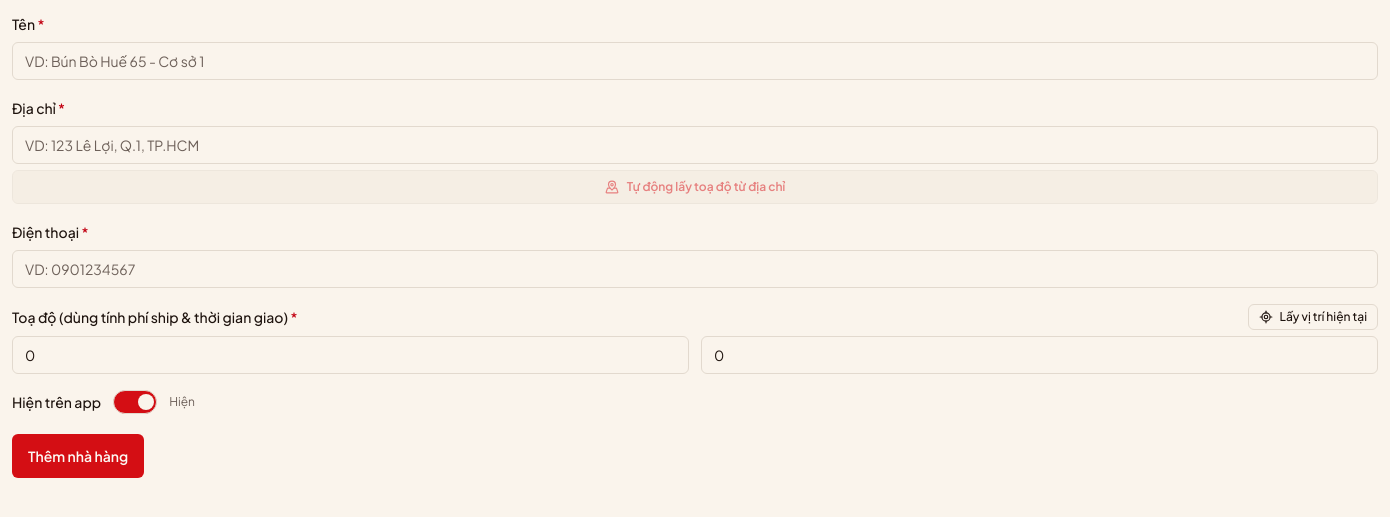
Test: RestaurantForm — toạ độ (lat/lng) › fills lat/lng from geocodeAddress when 'Tự động lấy toạ độ' is clicked
Type "123 Le Loi, TP.HCM" into the field with test id "restaurant.form.address_input" at (695, 145), box [12,126,1378,164]
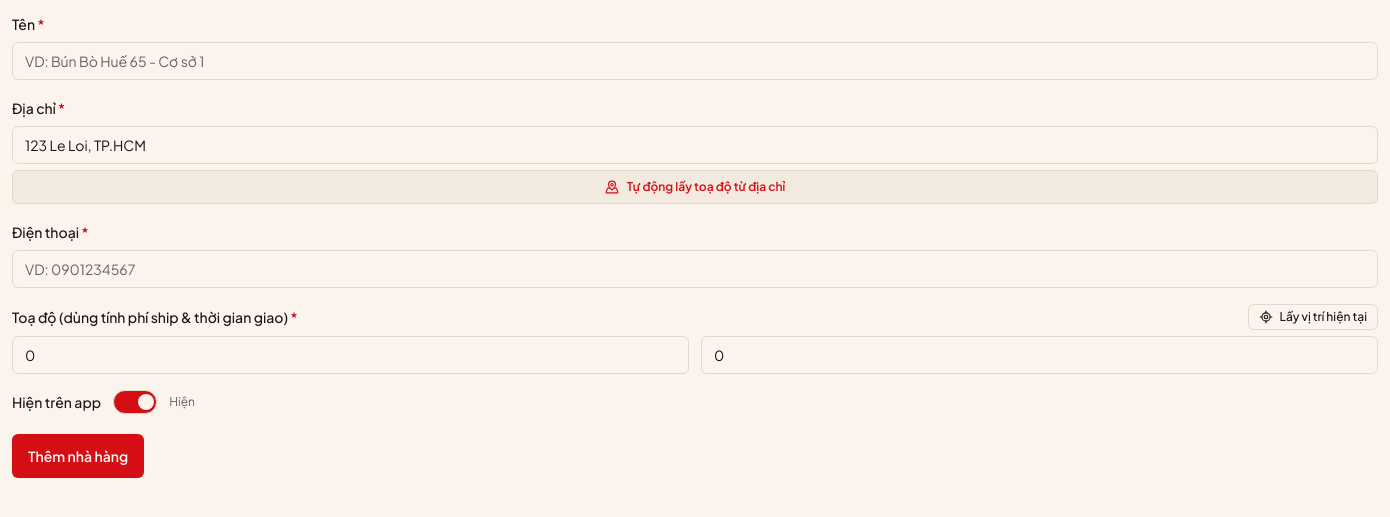
Click the button with test id "restaurant.form.geocode_button" at (695, 187), box [12,170,1378,204]
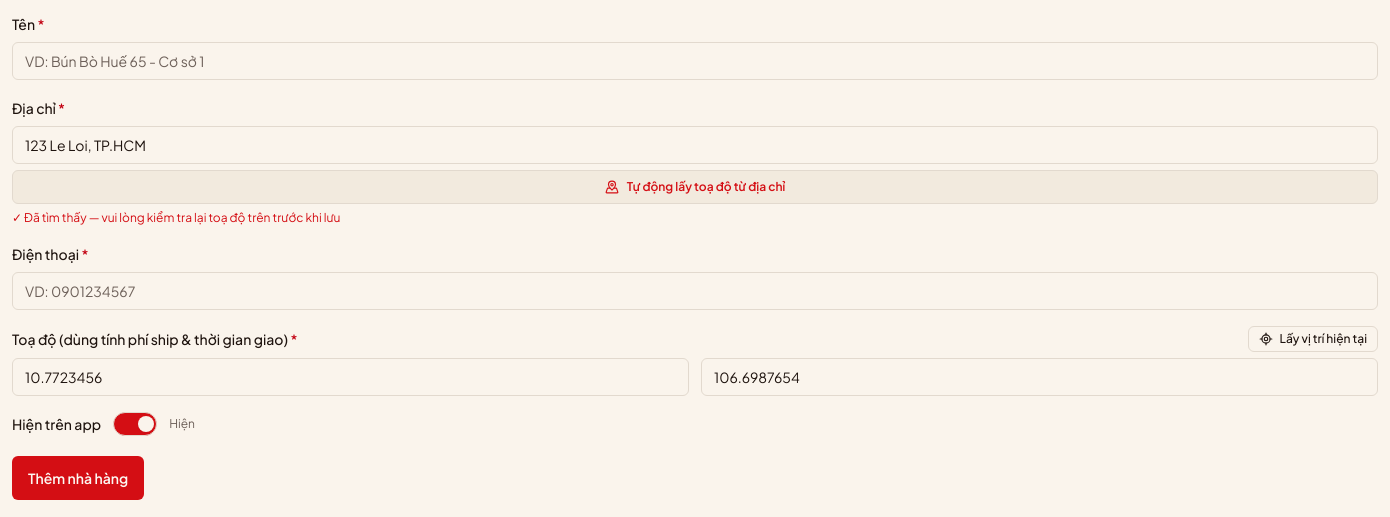
Now the text with test id "restaurant.form.geocode_success" is shown, box [12,210,340,225]
Now the number field with test id "restaurant.form.lat_input" holds "10.7723456", box [12,358,689,396]
Now the number field with test id "restaurant.form.lng_input" holds "106.6987654", box [701,358,1378,396]
